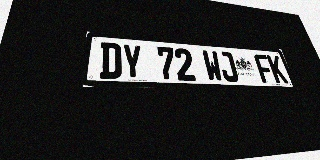2: (174, 48, 196, 81)
7: (156, 46, 178, 80)
D: (99, 42, 122, 79)
F: (253, 54, 276, 83)
J: (217, 51, 240, 82)
K: (266, 55, 289, 83)
W: (202, 50, 224, 82)
Y: (122, 44, 143, 80)
